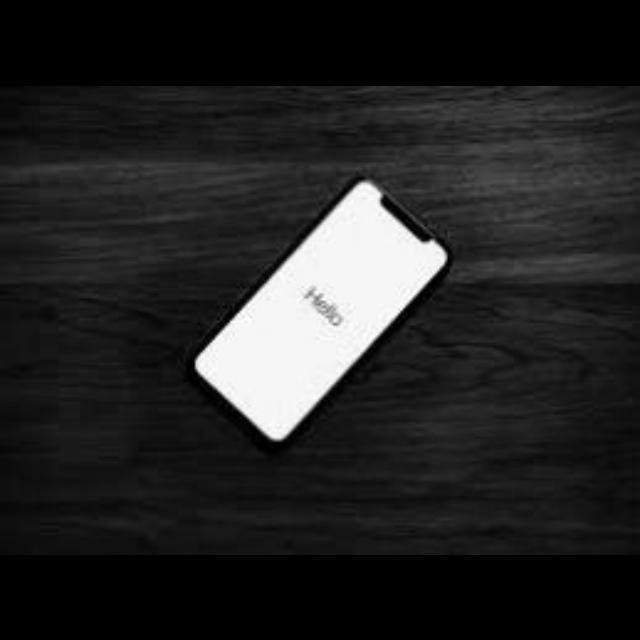fake: (198, 178, 444, 438)
